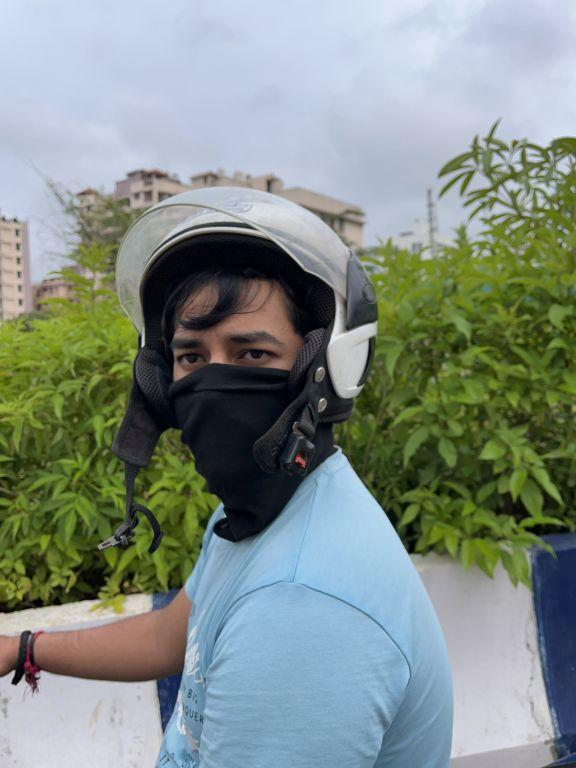helmet: (105, 162, 386, 431)
